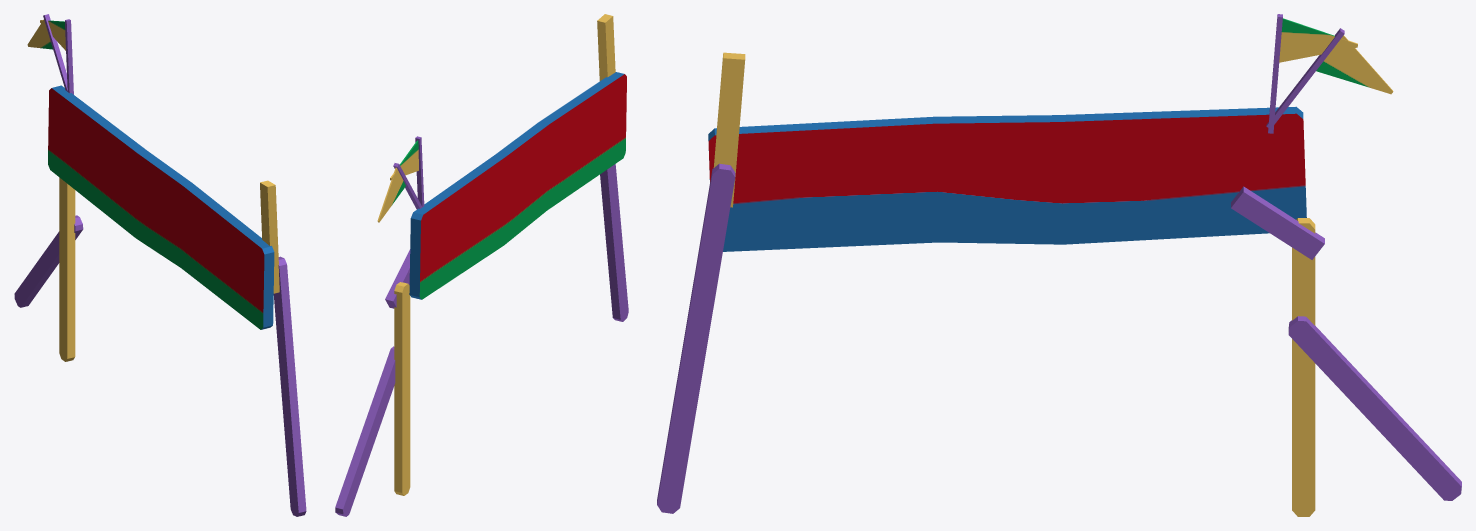
Rendered from PV_CheckPointB.fbx.
3 views of the same model, side by side, from view 1: azimuth 30°, elevation 25°; view 2: azimuth 150°, elevation 25°; view 3: azimuth 270°, elevation 25° (orthographic). The views are drawn at different scales.
Parts seen in each view (by area): view 1: checkpoint; view 2: checkpoint; view 3: checkpoint.
Part boxes in pixels (left/top/right/bottom): checkpoint: left=14, top=14, right=306, bottom=516; checkpoint: left=335, top=14, right=628, bottom=516; checkpoint: left=657, top=14, right=1461, bottom=516.
Bounding box in the file's own units: 212 × 2349 × 3471.
